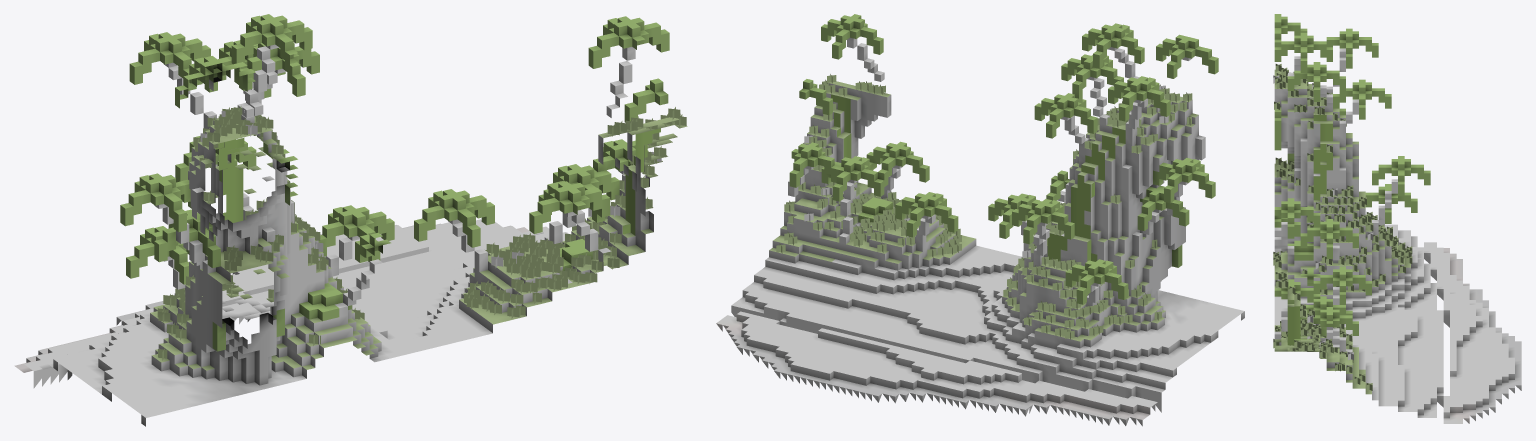
3 views of the same model, side by side, from view 1: azimuth 30°, elevation 25°; view 2: azimuth 150°, elevation 25°; view 3: azimuth 270°, elevation 25° (orthographic). The views are drawn at different scales.
Parts seen in each view (by area): view 1: recorte, opaco; view 2: opaco, recorte; view 3: opaco, recorte.
Part boxes in pixels (x1,y1,x2,y2): recorte: (120,14,687,379); opaco: (14,44,653,426); opaco: (716,37,1244,426); recorte: (769,14,1218,348); opaco: (1274,49,1521,423); recorte: (1273,14,1430,394).
Size of the model in its own units: 64.2 by 45 by 38.2.
